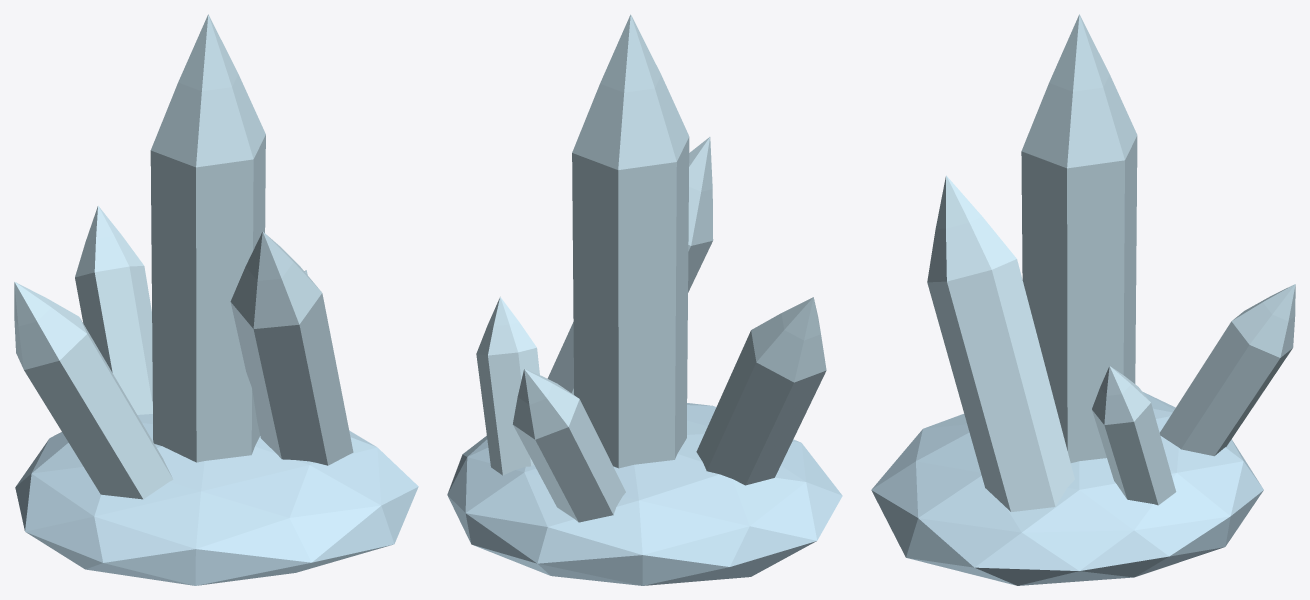
Rendered from SpleefCrystal.glb.
The picture shows the model from 3 angles, left to right: view 1: azimuth 30°, elevation 25°; view 2: azimuth 150°, elevation 25°; view 3: azimuth 270°, elevation 25°; orthographic projection.
Visible parts, largest first — view 1: Crystal, Base; view 2: Crystal, Base; view 3: Crystal, Base.
Part boxes in pixels (x1,y1,x2,y2): Crystal: (14, 14, 353, 499); Base: (15, 414, 418, 585); Crystal: (476, 14, 826, 522); Base: (447, 403, 842, 585); Crystal: (927, 14, 1295, 511); Base: (871, 392, 1263, 585).
Size of the model in its own units: 5.09 by 6.8 by 5.25.
